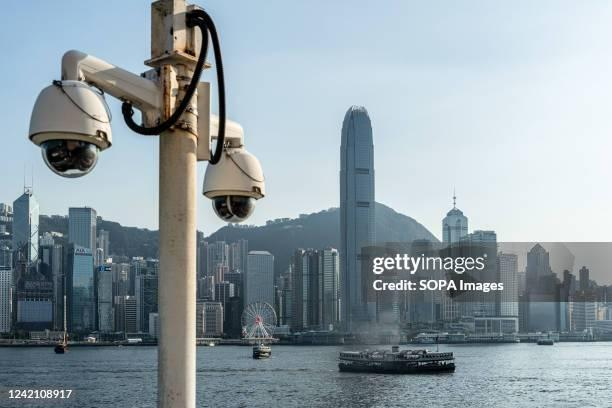360-Cam: (22, 73, 118, 183), (200, 143, 268, 228)
